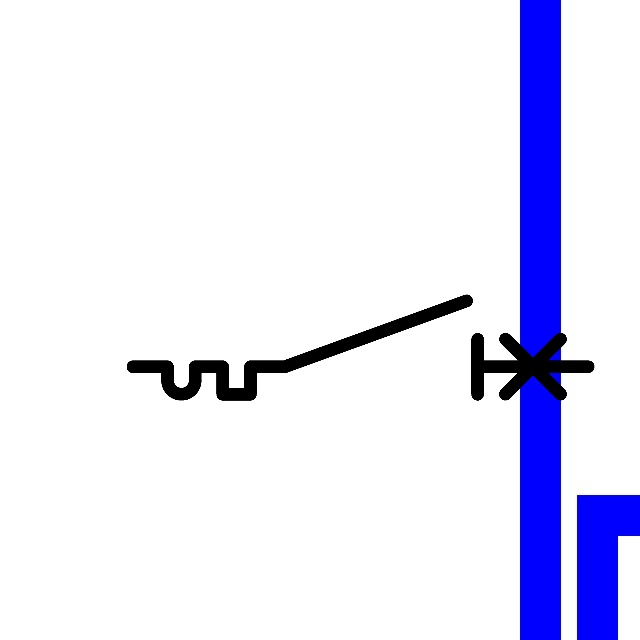interruptor_termomagnetico: (121, 289, 600, 406)
